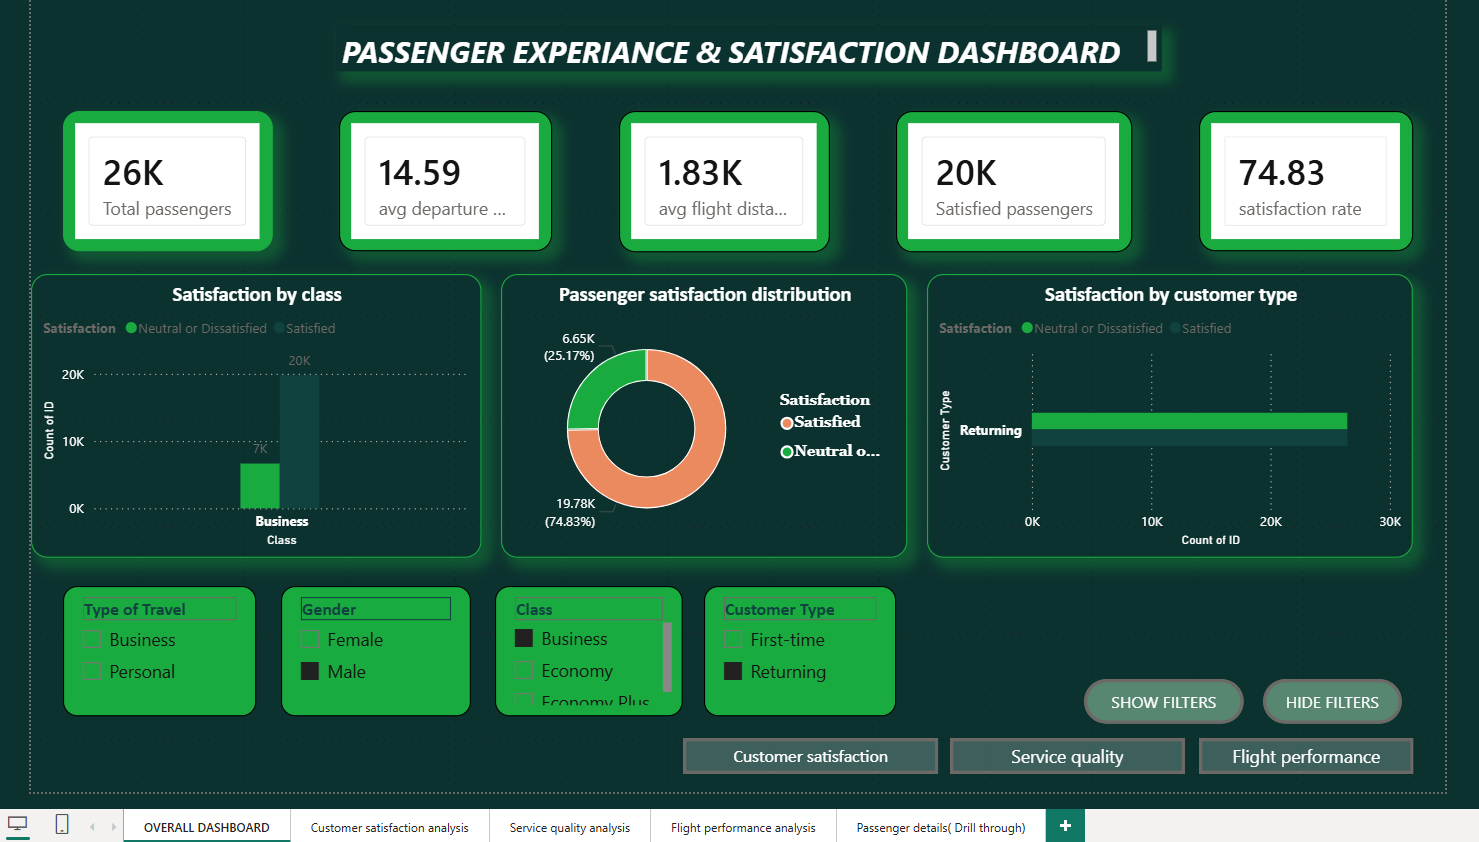

What the dashboard file says about the page in this screenshot:
{"tool":"powerbi","page":{"name":"OVERALL DASHBOARD","canvas":[1280,720],"ordinal":0},"visuals":[{"type":"cardVisual","fields":{"Data":["Table1.tota passengers"]},"box":[29.2,102.8,189.7,127.4],"z":0},{"type":"cardVisual","fields":{"Data":["Table3.avg departure delay"]},"box":[279.4,102.8,192.6,127.4],"z":1000},{"type":"cardVisual","fields":{"Data":["Table3.avg flight distance"]},"box":[532.5,102.8,190.8,127.8],"z":2000},{"type":"cardVisual","fields":{"Data":["Table1.Satisfied passengers"]},"box":[783.8,102.8,214,127.8],"z":3000},{"type":"cardVisual","fields":{"Data":["Table1.satisfaction rate"]},"box":[1058.2,102.8,193.6,127.4],"z":4000},{"type":"donutChart","title":"Passenger satisfaction distribution","fields":{"Category":["Table1.Satisfaction"],"Y":["CountNonNull(Table1.ID)"]},"box":[425.7,250.9,367.7,257.2],"z":5000},{"type":"clusteredColumnChart","title":"Satisfaction by class","fields":{"Y":["CountNonNull(Table1.ID)"],"Category":["Table4.Class"],"Series":["Table1.Satisfaction"]},"box":[0,250.9,407.5,257.2],"z":6000},{"type":"clusteredBarChart","title":"Satisfaction by customer type","fields":{"Category":["Table4.Customer Type"],"Y":["CountNonNull(Table4.ID)"],"Series":["Table1.Satisfaction"]},"box":[811.5,250.9,440.2,257.2],"z":7000},{"type":"slicer","fields":{"Values":["Table4.Gender"]},"box":[226.4,533.4,172.1,117.7],"z":8000},{"type":"slicer","fields":{"Values":["Table4.Type of Travel"]},"box":[29,533.4,174.8,117.7],"z":9000},{"type":"slicer","fields":{"Values":["Table4.Customer Type"]},"box":[609.5,533.4,173.9,117.7],"z":10000},{"type":"slicer","fields":{"Values":["Table4.Class"]},"box":[420.2,533.4,170.3,117.7],"z":11000},{"type":"textbox","box":[276.2,25.3,748,41.8],"z":12000},{"type":"actionButton","box":[590.6,670.9,231.2,32.6],"z":13000},{"type":"actionButton","box":[832.7,670.9,212.8,32.6],"z":14000},{"type":"actionButton","box":[1057.4,670.9,194.3,32.6],"z":15000},{"type":"actionButton","box":[953.2,617.9,144.7,40.6],"z":16000},{"type":"actionButton","box":[1115.5,617.9,125.7,40.6],"z":17000}]}

Visuals, with their boxes on the page's 1280x720 design canvas (x1, y1, x2, y2). These are canvas units, not pixel positions in the 1479x842 screenshot, which may show the page scaled, cropped or inside an application window:
cardVisual - Table1.tota passengers: bbox(29, 103, 219, 230)
cardVisual - Table3.avg departure delay: bbox(279, 103, 472, 230)
cardVisual - Table3.avg flight distance: bbox(532, 103, 723, 231)
cardVisual - Table1.Satisfied passengers: bbox(784, 103, 998, 231)
cardVisual - Table1.satisfaction rate: bbox(1058, 103, 1252, 230)
"Passenger satisfaction distribution" donutChart: bbox(426, 251, 793, 508)
"Satisfaction by class" clusteredColumnChart: bbox(0, 251, 408, 508)
"Satisfaction by customer type" clusteredBarChart: bbox(812, 251, 1252, 508)
slicer - Table4.Gender: bbox(226, 533, 398, 651)
slicer - Table4.Type of Travel: bbox(29, 533, 204, 651)
slicer - Table4.Customer Type: bbox(610, 533, 783, 651)
slicer - Table4.Class: bbox(420, 533, 590, 651)
textbox: bbox(276, 25, 1024, 67)
actionButton: bbox(591, 671, 822, 704)
actionButton: bbox(833, 671, 1046, 704)
actionButton: bbox(1057, 671, 1252, 704)
actionButton: bbox(953, 618, 1098, 658)
actionButton: bbox(1116, 618, 1241, 658)
